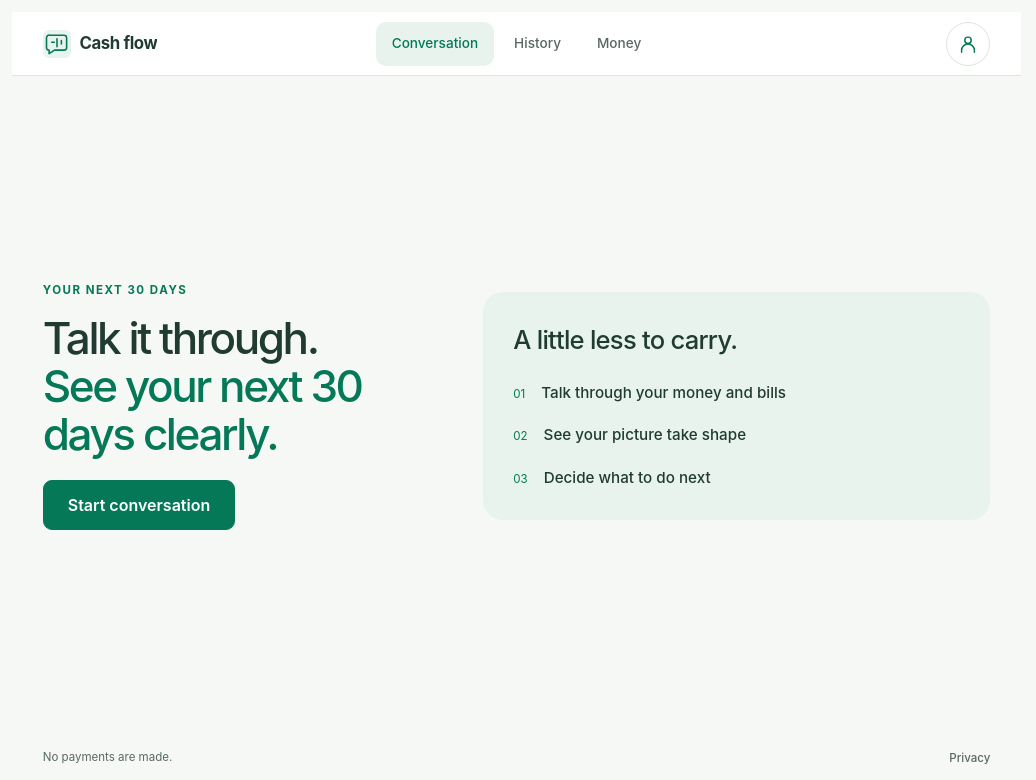
Test: does not create a plan on StrictMode mount or pretend unavailable voice works
Click the button "Start conversation" at (139, 505), box [43, 480, 235, 530]
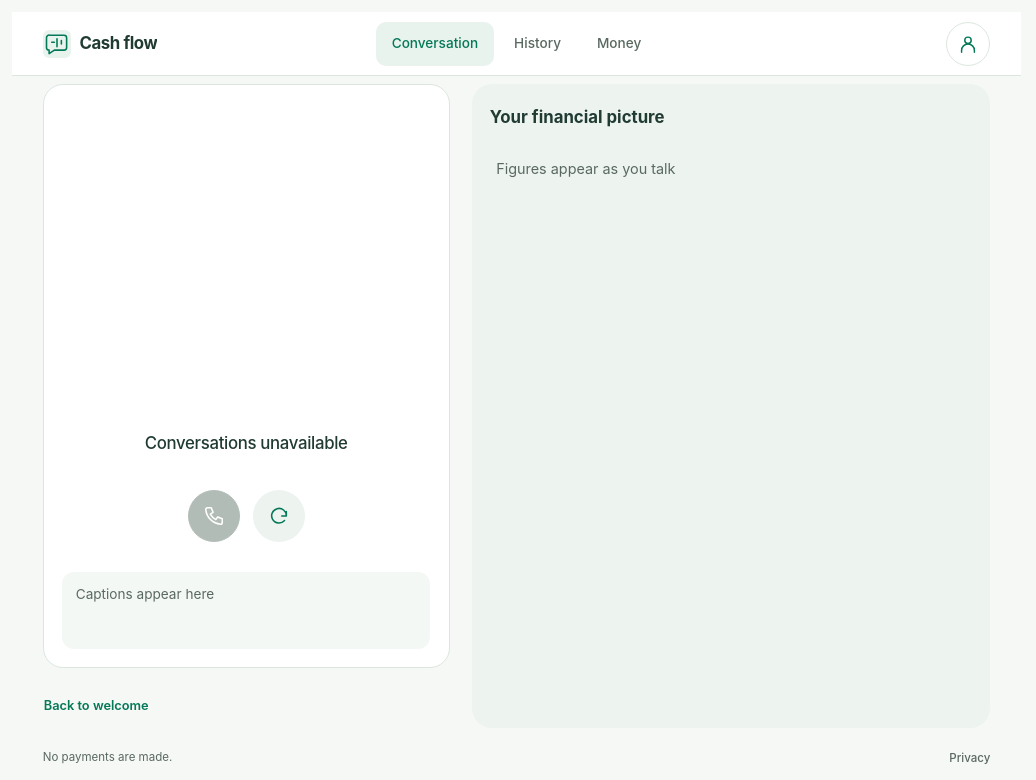
Now the button named "Start talking" is disabled, box [188, 490, 240, 542]
Now the button named "Check availability" is enabled, box [253, 490, 305, 542]
Click the link "Money" at (619, 43), box [597, 35, 641, 51]
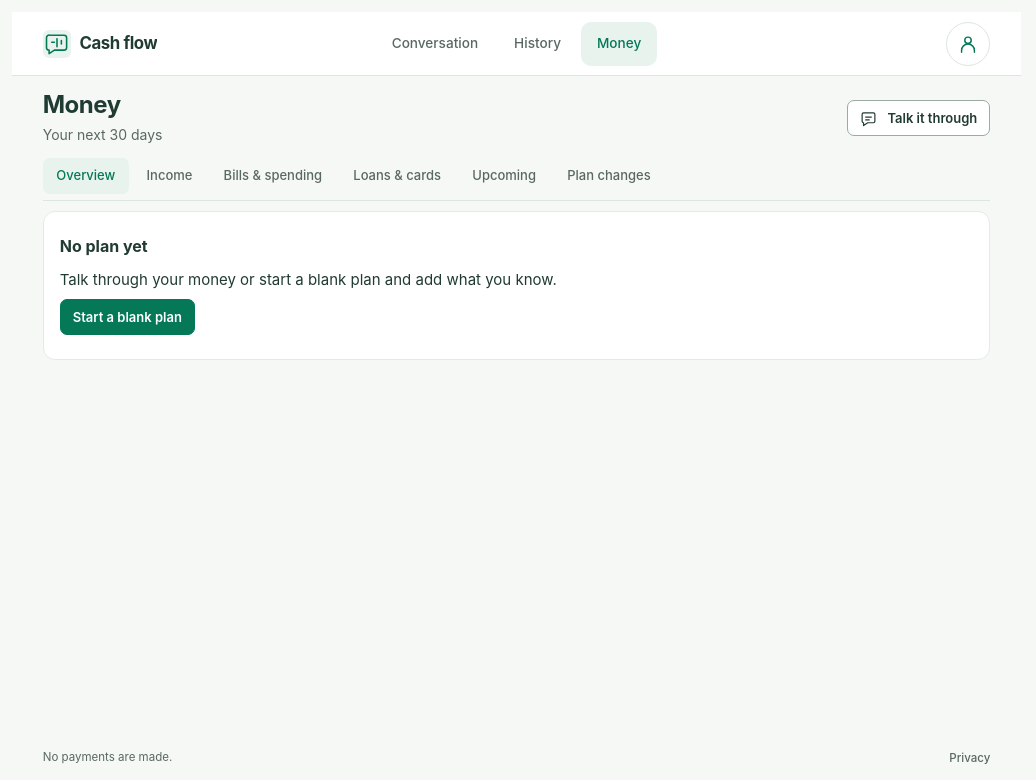
Click the button "Start a blank plan" at (127, 317), box [60, 299, 195, 335]
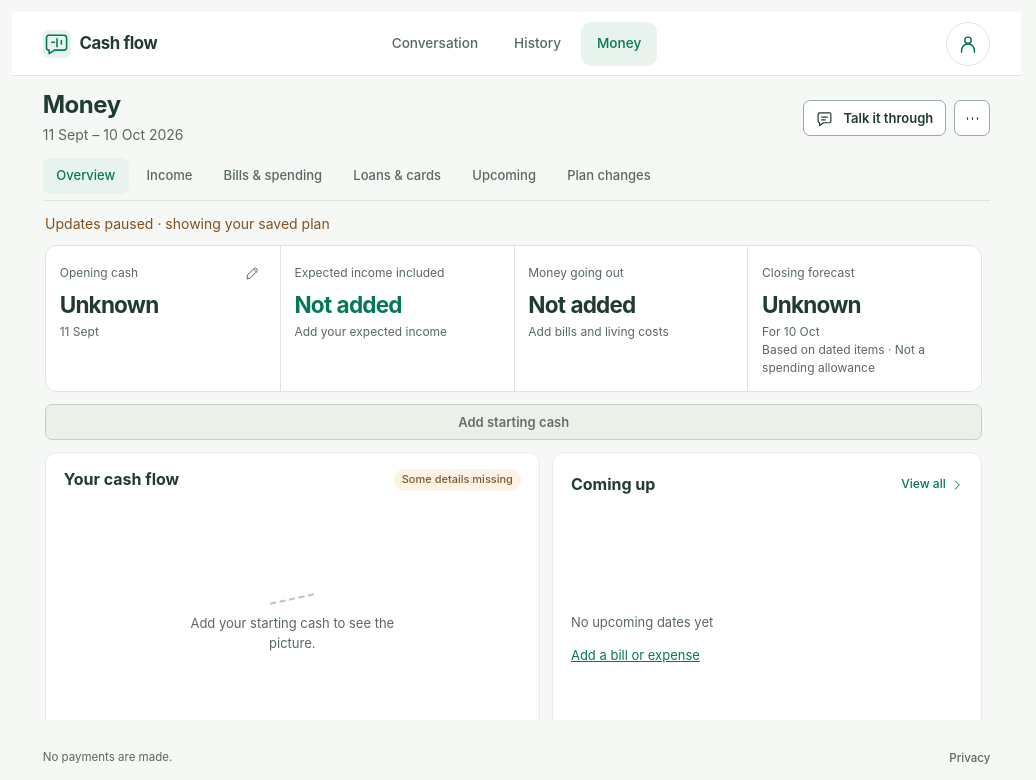
Now the element named "Money in this plan" shows "Unknown", box [60, 291, 158, 318]
